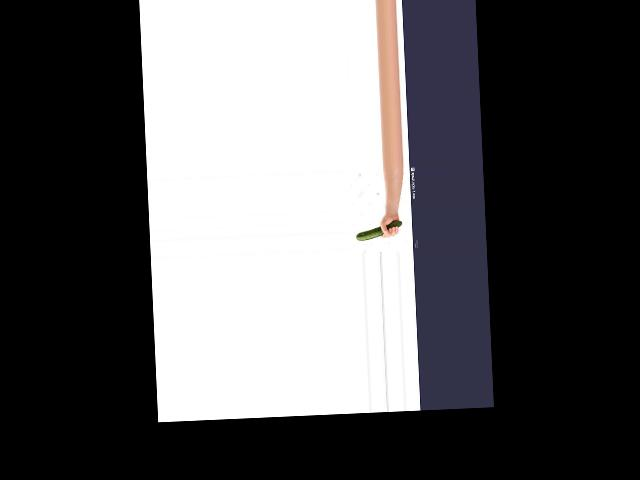cucumber: (355, 221, 403, 241)
